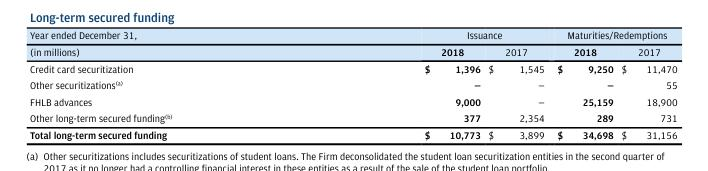table: (29, 28, 676, 140)
table column: (29, 28, 297, 140), (297, 28, 483, 140), (483, 28, 550, 140), (550, 28, 616, 140), (616, 28, 676, 140)
table column header: (29, 28, 676, 59)
table row: (29, 59, 676, 76), (29, 92, 676, 109), (29, 109, 676, 126), (29, 43, 676, 59), (29, 76, 676, 92), (29, 28, 676, 43), (29, 126, 676, 140)
table spanning cell: (29, 28, 297, 59), (297, 28, 550, 43), (550, 28, 676, 43)
